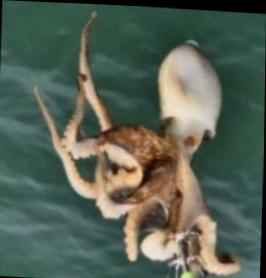Cephalopod: (32, 10, 241, 276)
